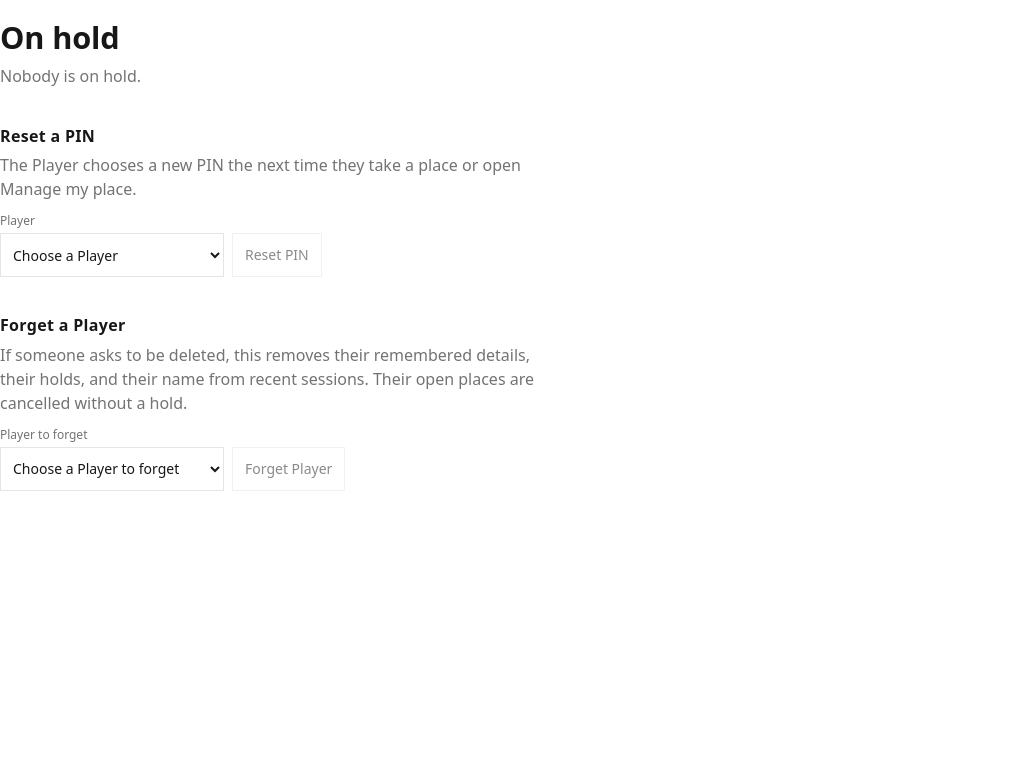
Test: Reset a PIN › picks a Player by name and last three digits, confirms, then resets
Expected: the button "Reset PIN" is disabled, top-left (232, 233), bottom-right (322, 277)
Select "Alex · …456" in the dropdown labelled "Player": (112, 255) top-left (0, 233), bottom-right (224, 277)
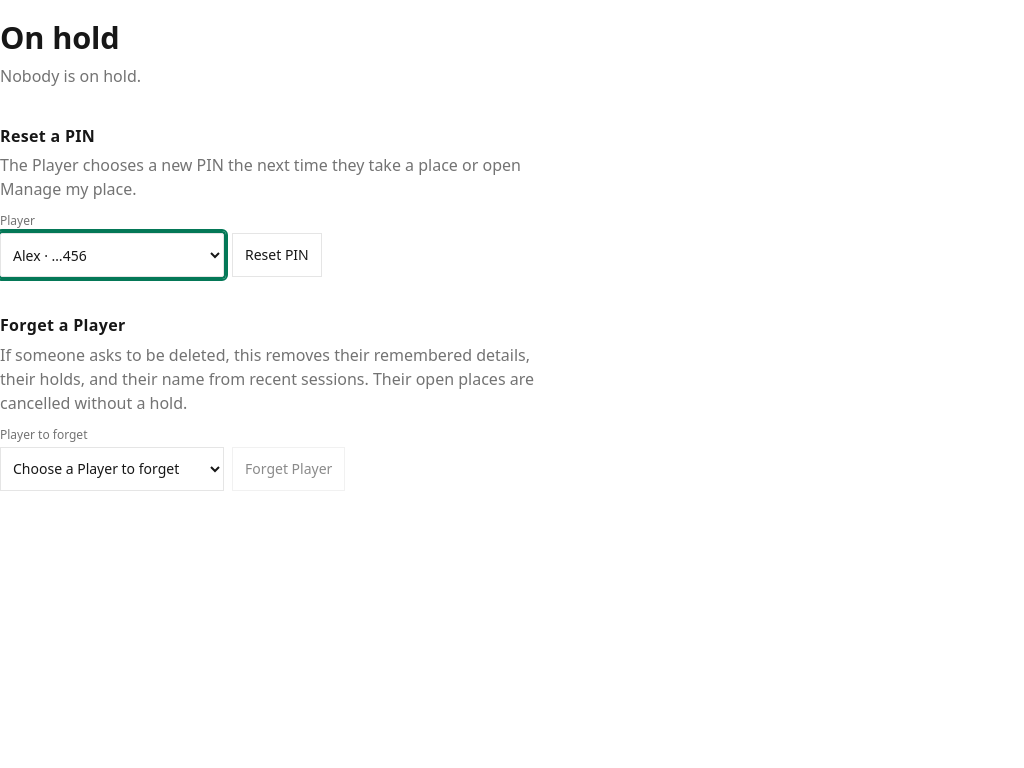
Click the button "Reset PIN": click(277, 255) top-left (232, 233), bottom-right (322, 277)
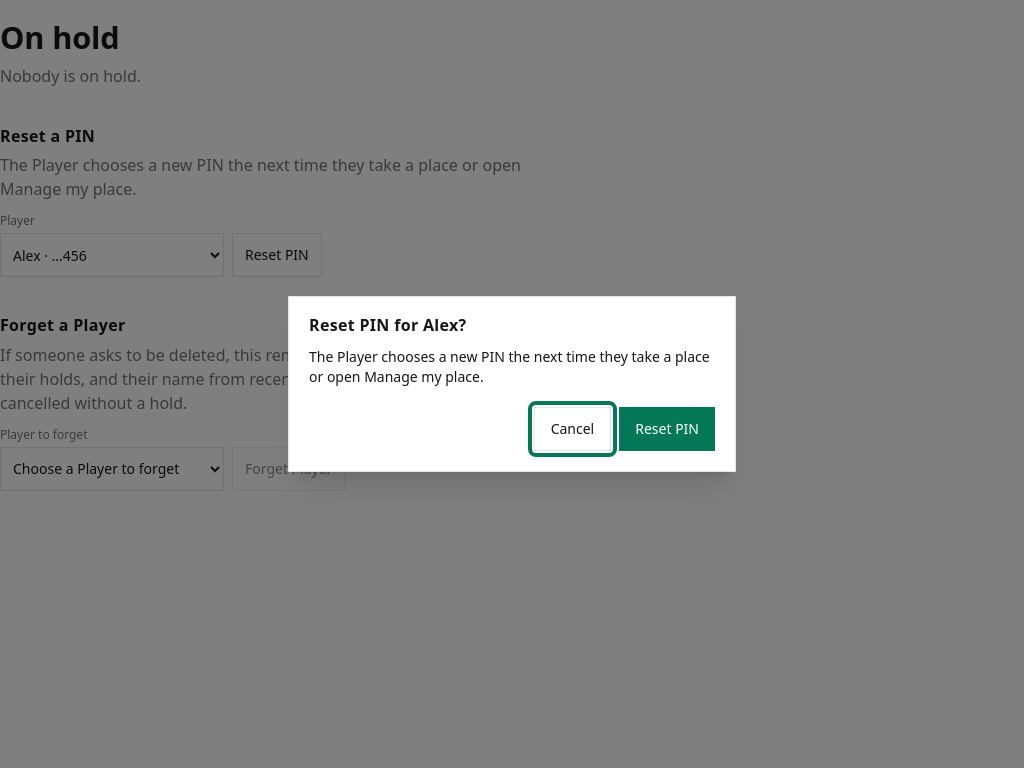
Click the button "Reset PIN": click(667, 429) top-left (619, 407), bottom-right (715, 451)
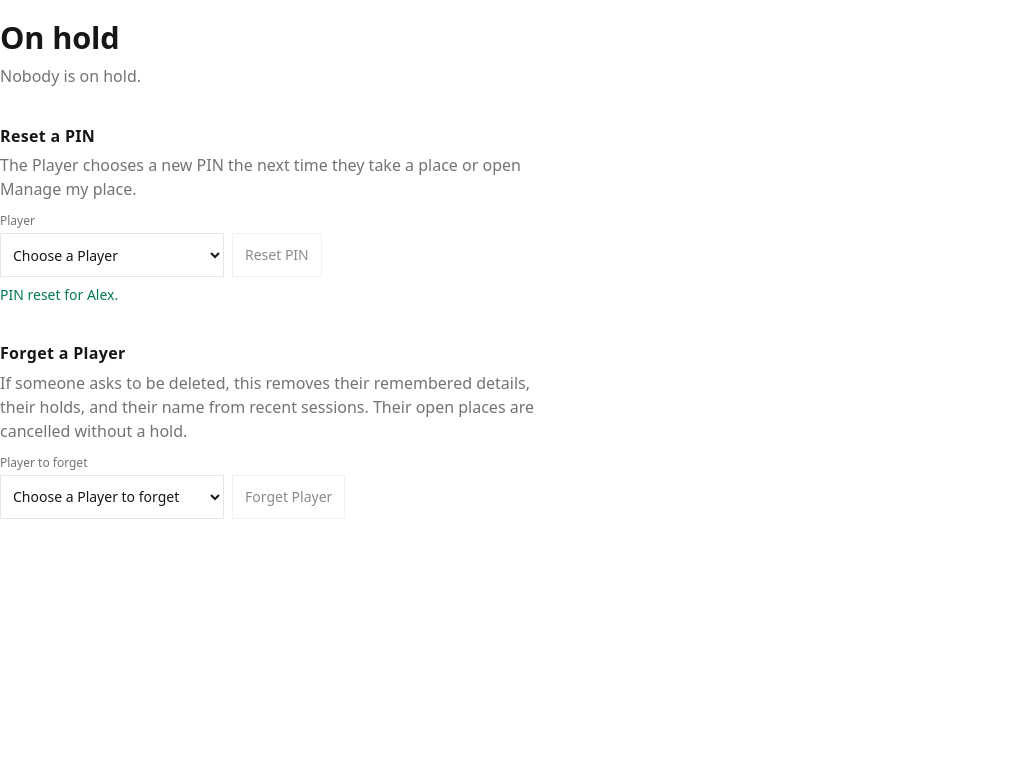
Now the text "PIN reset for Alex." is shown, box top-left (0, 285), bottom-right (118, 304)
Now the dialog is gone
